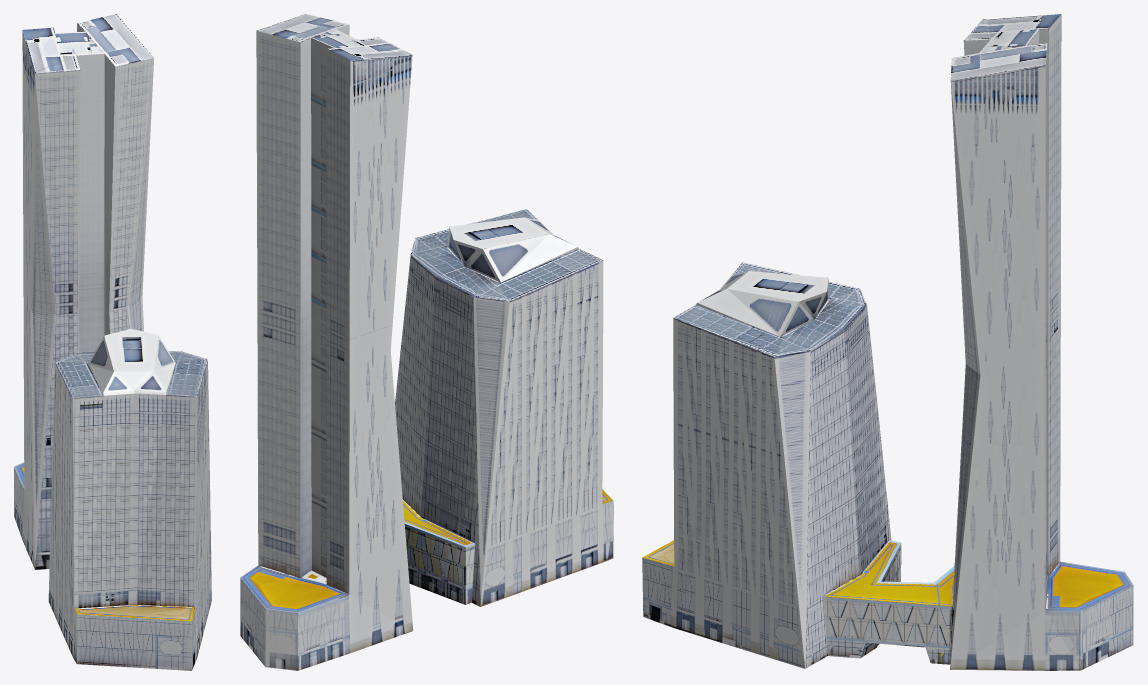
File: 409_PLACED2.glb
3 views of the same model, side by side, from view 1: azimuth 30°, elevation 25°; view 2: azimuth 150°, elevation 25°; view 3: azimuth 270°, elevation 25° (orthographic). The views are drawn at different scales.
Parts seen in each view (by area): view 1: 4.009; view 2: 4.009; view 3: 4.009.
Part boxes in pixels (x1,y1,x2,y2): 4.009: (14,14,211,670); 4.009: (240,14,613,670); 4.009: (642,14,1133,670).
Size of the model in its own units: 64.68 by 182 by 133.
Materials: 1 (1 with a texture image).
